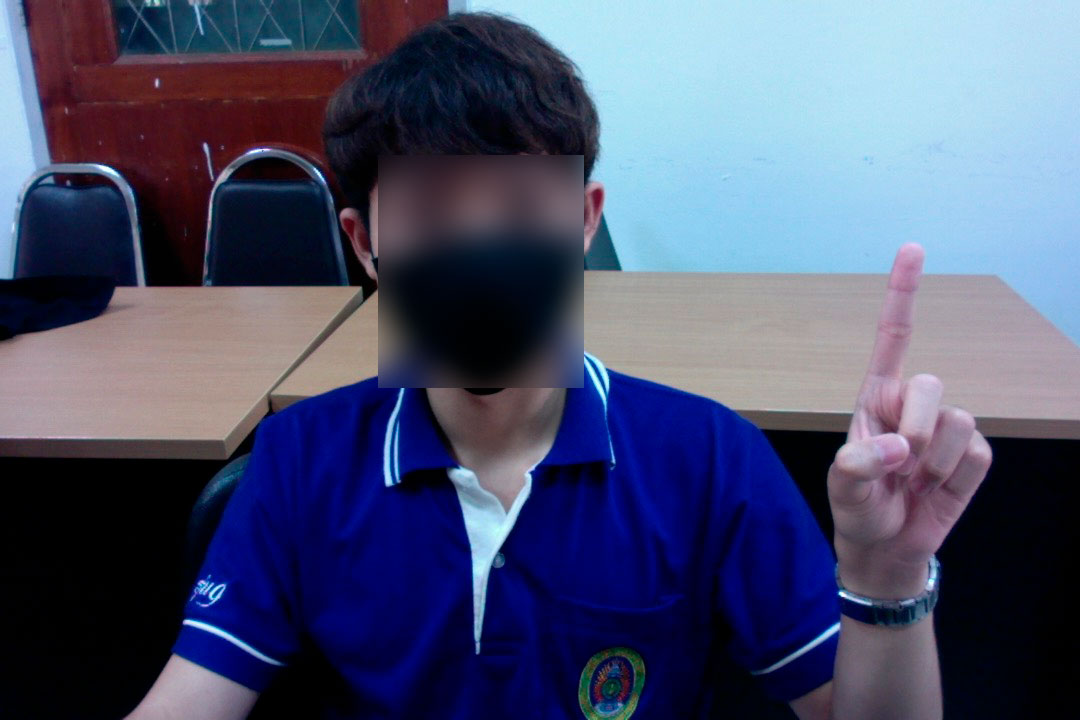dor: (816, 236, 1006, 597)
